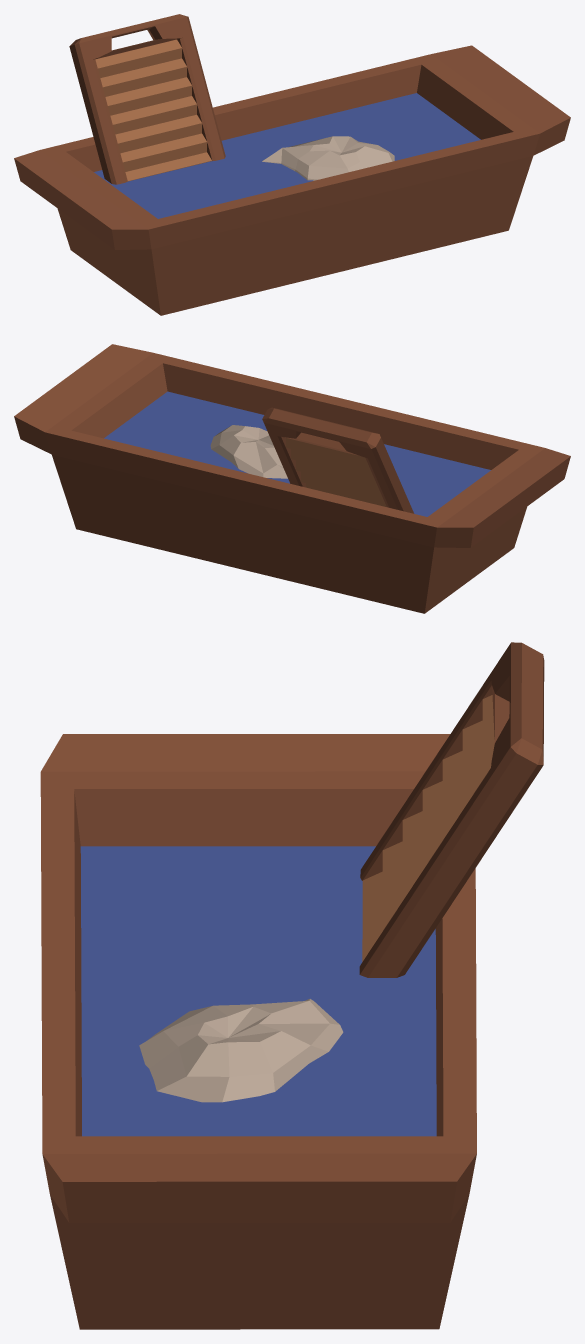
Rendered from washing_wool_1.fbx.
3 views of the same model, one above another, from view 1: azimuth 30°, elevation 25°; view 2: azimuth 150°, elevation 25°; view 3: azimuth 270°, elevation 25° (orthographic). The views are drawn at different scales.
Visible parts, largest first — view 1: washing_wool; view 2: washing_wool; view 3: washing_wool.
Part boxes in pixels (box(x1,y1,x2,y2)): washing_wool: box(14, 14, 570, 315); washing_wool: box(14, 344, 570, 613); washing_wool: box(40, 642, 544, 1329).
Bounding box in the file's own units: 131 × 51.33 × 61.99.
